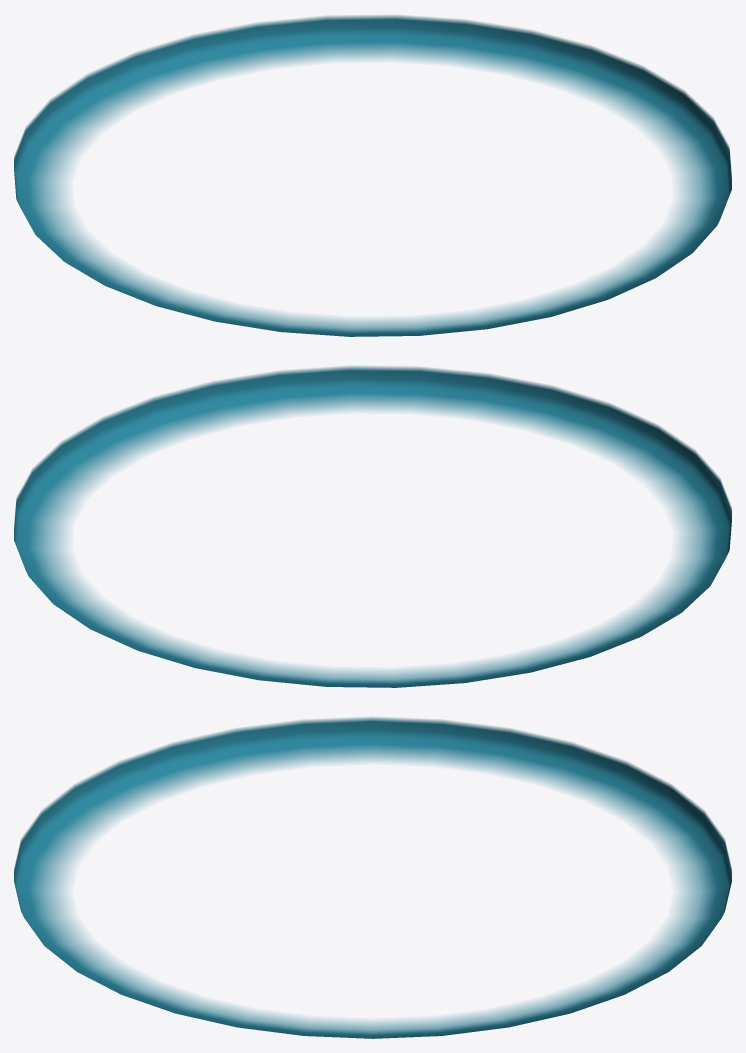
File: SM_BackgroundFog.glb
The picture shows the model from 3 angles, top to bottom: view 1: azimuth 30°, elevation 25°; view 2: azimuth 150°, elevation 25°; view 3: azimuth 270°, elevation 25°; orthographic projection.
Visible parts, largest first — view 1: SM_BackgroundFog; view 2: SM_BackgroundFog; view 3: SM_BackgroundFog.
Boxes of the visible parts, <box> form: SM_BackgroundFog: <box>14,15,731,336</box>; SM_BackgroundFog: <box>14,366,731,687</box>; SM_BackgroundFog: <box>14,717,731,1038</box>.
Bounding box in the file's own units: 451 × 16.38 × 451.
Materials: 1 (1 with a texture image).
